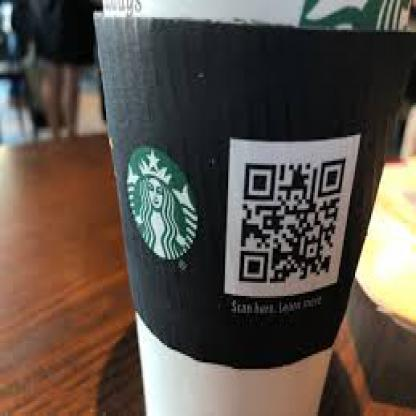qr_code: (240, 160, 343, 286)
